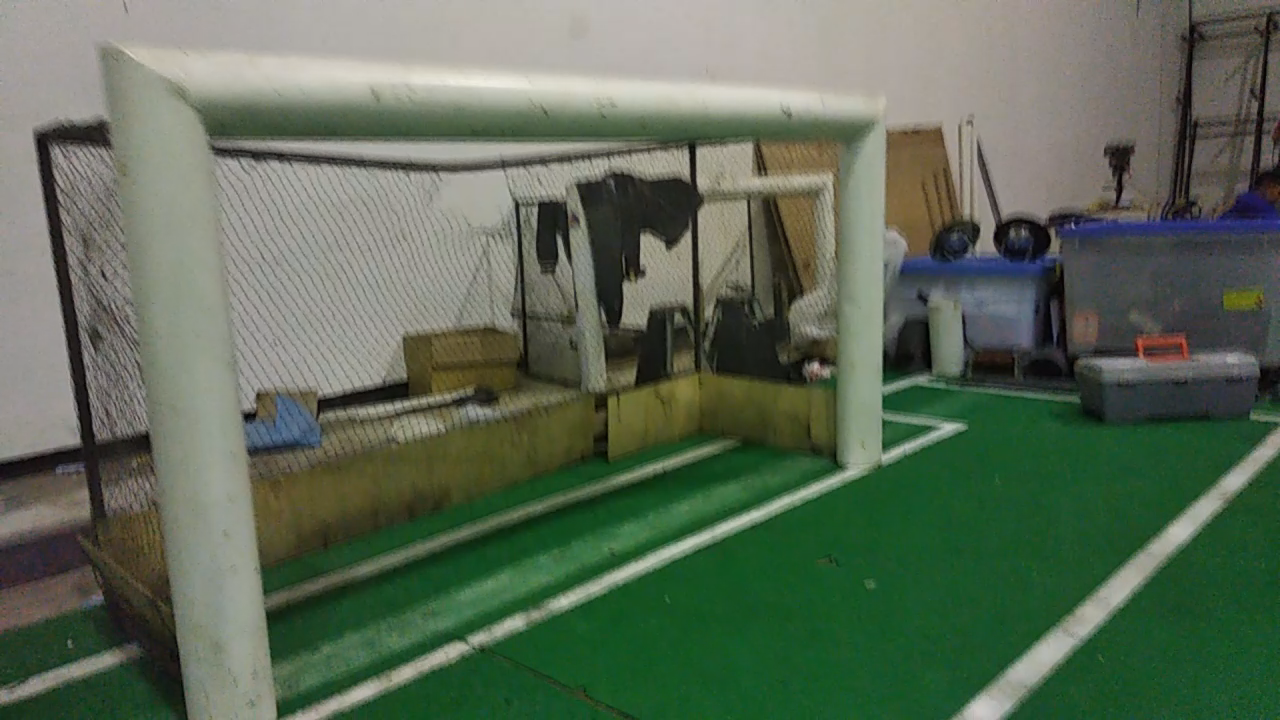gawang: (79, 19, 906, 710)
